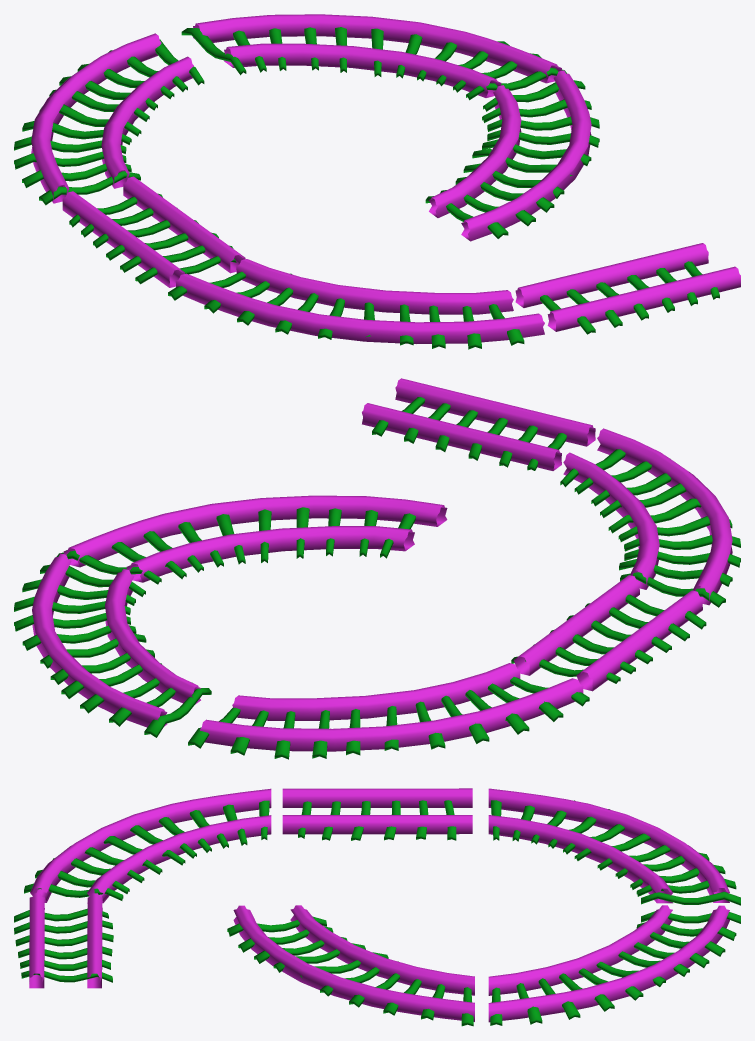
File: railway_low.fbx
3 views of the same model, one above another, from view 1: azimuth 30°, elevation 25°; view 2: azimuth 150°, elevation 25°; view 3: azimuth 270°, elevation 25° (orthographic). The views are drawn at different scales.
Visible parts, largest first — view 1: railway06_low, railway03_low, railway07_low, railway05_low, railway04_low, railway01_low; view 2: railway07_low, railway05_low, railway06_low, railway03_low, railway04_low, railway01_low; view 3: railway06_low, railway07_low, railway05_low, railway03_low, railway01_low, railway04_low.
Part boxes in pixels (<box>): railway06_low: <box>181,14,566,100</box>; railway03_low: <box>168,259,544,349</box>; railway07_low: <box>14,33,204,205</box>; railway05_low: <box>425,70,599,241</box>; railway04_low: <box>515,243,740,334</box>; railway01_low: <box>62,176,245,287</box>; railway07_low: <box>188,663,589,759</box>; railway05_low: <box>56,495,447,584</box>; railway06_low: <box>14,553,211,737</box>; railway03_low: <box>560,428,740,607</box>; railway04_low: <box>362,378,595,470</box>; railway01_low: <box>511,575,706,691</box>; railway06_low: <box>488,905,740,1025</box>; railway07_low: <box>488,788,740,905</box>; railway05_low: <box>227,905,474,1026</box>; railway03_low: <box>24,788,271,903</box>; railway01_low: <box>282,788,472,840</box>; railway04_low: <box>14,893,113,988</box>.
Size of the model in its own units: 483 by 15.94 by 640.
